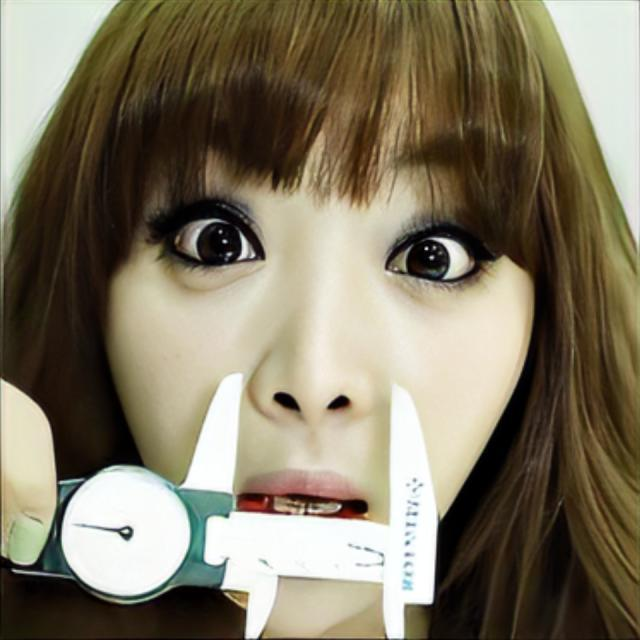fear: (86, 110, 538, 640)
